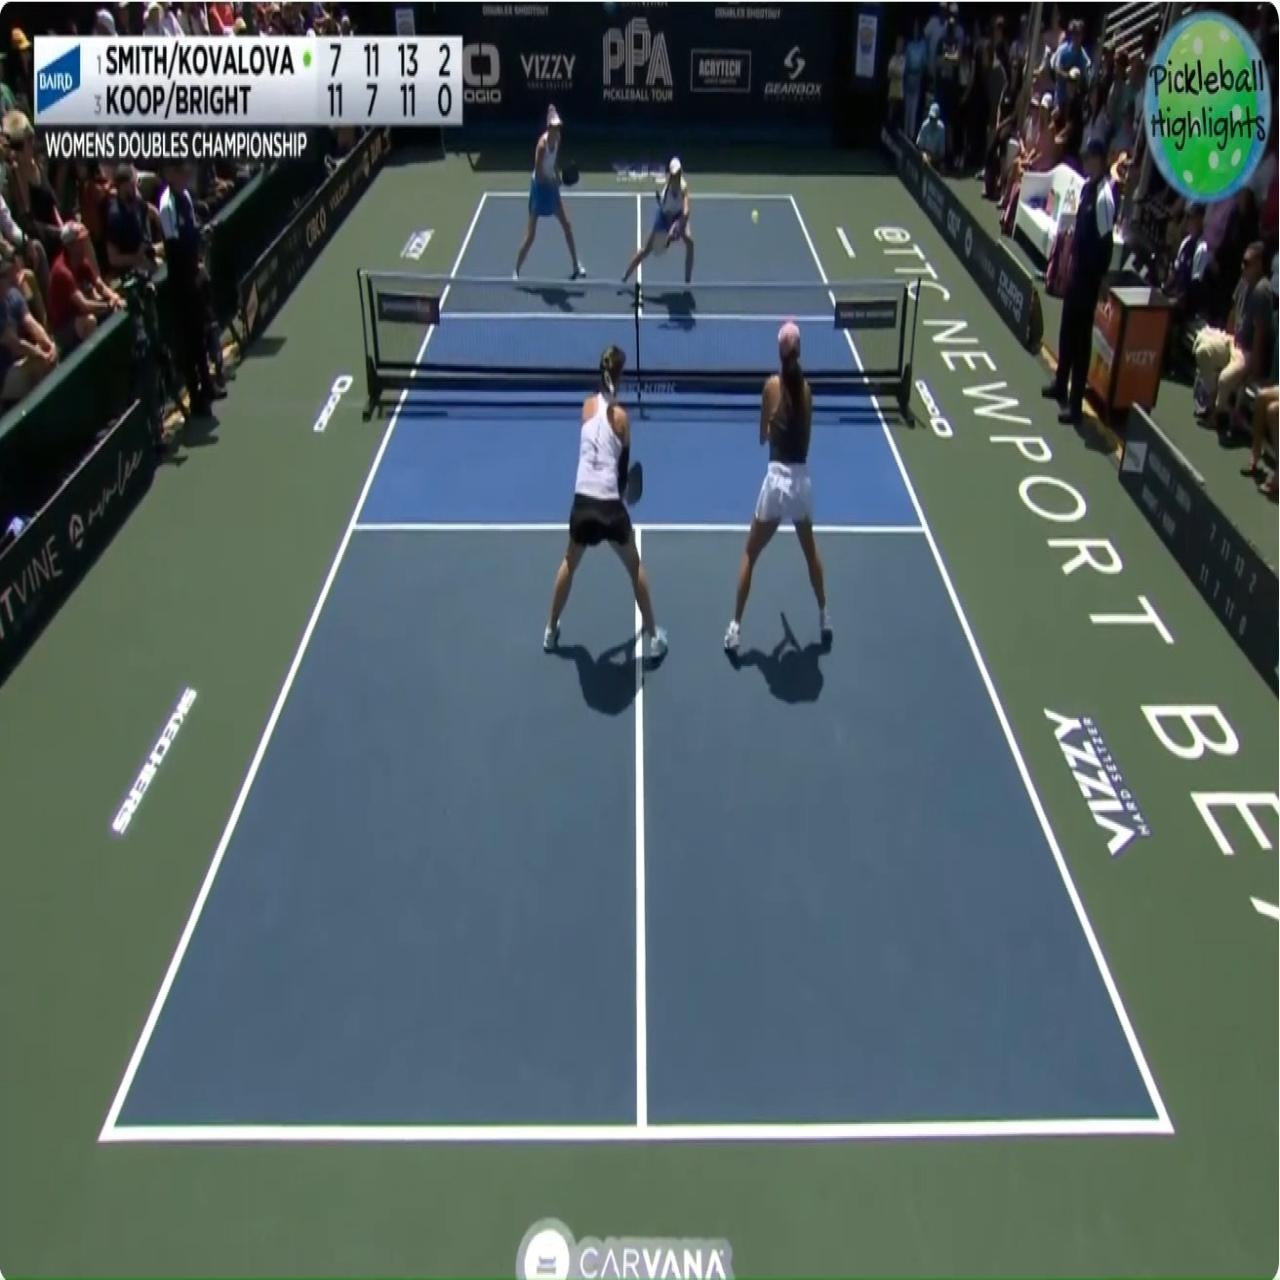pickleball: (751, 209, 760, 222)
